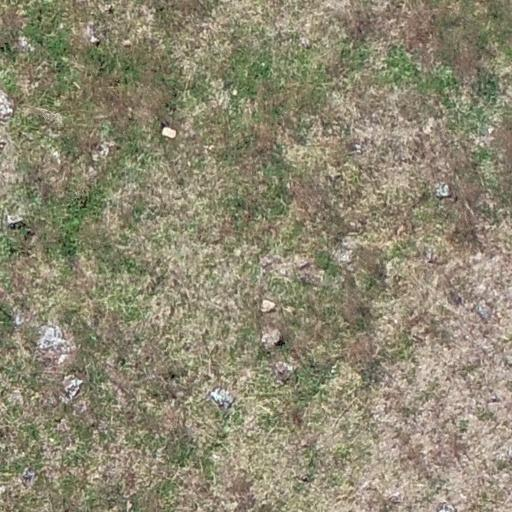stone: (272, 358, 294, 382), (261, 328, 283, 348), (6, 213, 26, 230), (260, 299, 278, 315), (161, 126, 178, 142), (436, 181, 451, 199), (120, 37, 135, 48), (88, 34, 100, 46)
